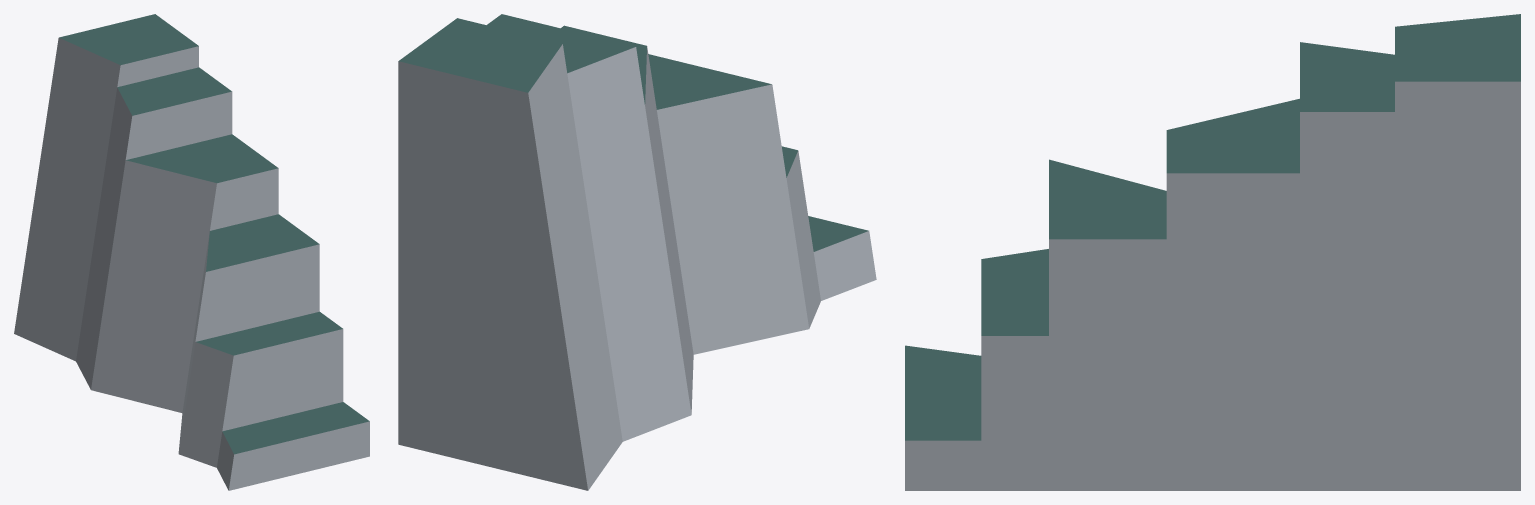
Rendered from Grey_Cliff_End_Green_Top_01.fbx.
3 renders of one model, left to right at view 1: azimuth 30°, elevation 25°; view 2: azimuth 150°, elevation 25°; view 3: azimuth 270°, elevation 25°, orthographic. The views are drawn at different scales.
Parts seen in each view (by area): view 1: Mesh1_Grey_Cliff_End_Green_Top Model; view 2: Mesh1_Grey_Cliff_End_Green_Top Model; view 3: Mesh1_Grey_Cliff_End_Green_Top Model.
Part boxes in pixels (left/top/right/bottom): Mesh1_Grey_Cliff_End_Green_Top Model: left=14, top=14, right=369, bottom=490; Mesh1_Grey_Cliff_End_Green_Top Model: left=398, top=14, right=876, bottom=490; Mesh1_Grey_Cliff_End_Green_Top Model: left=905, top=14, right=1520, bottom=490.
Bounding box in the file's own units: 1.14 × 2.2 × 3.
